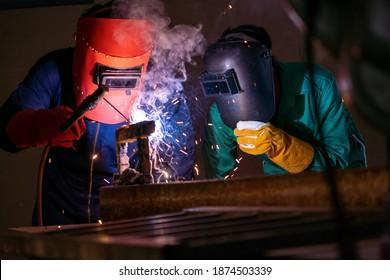gloves: (233, 118, 314, 173), (10, 105, 86, 152)
